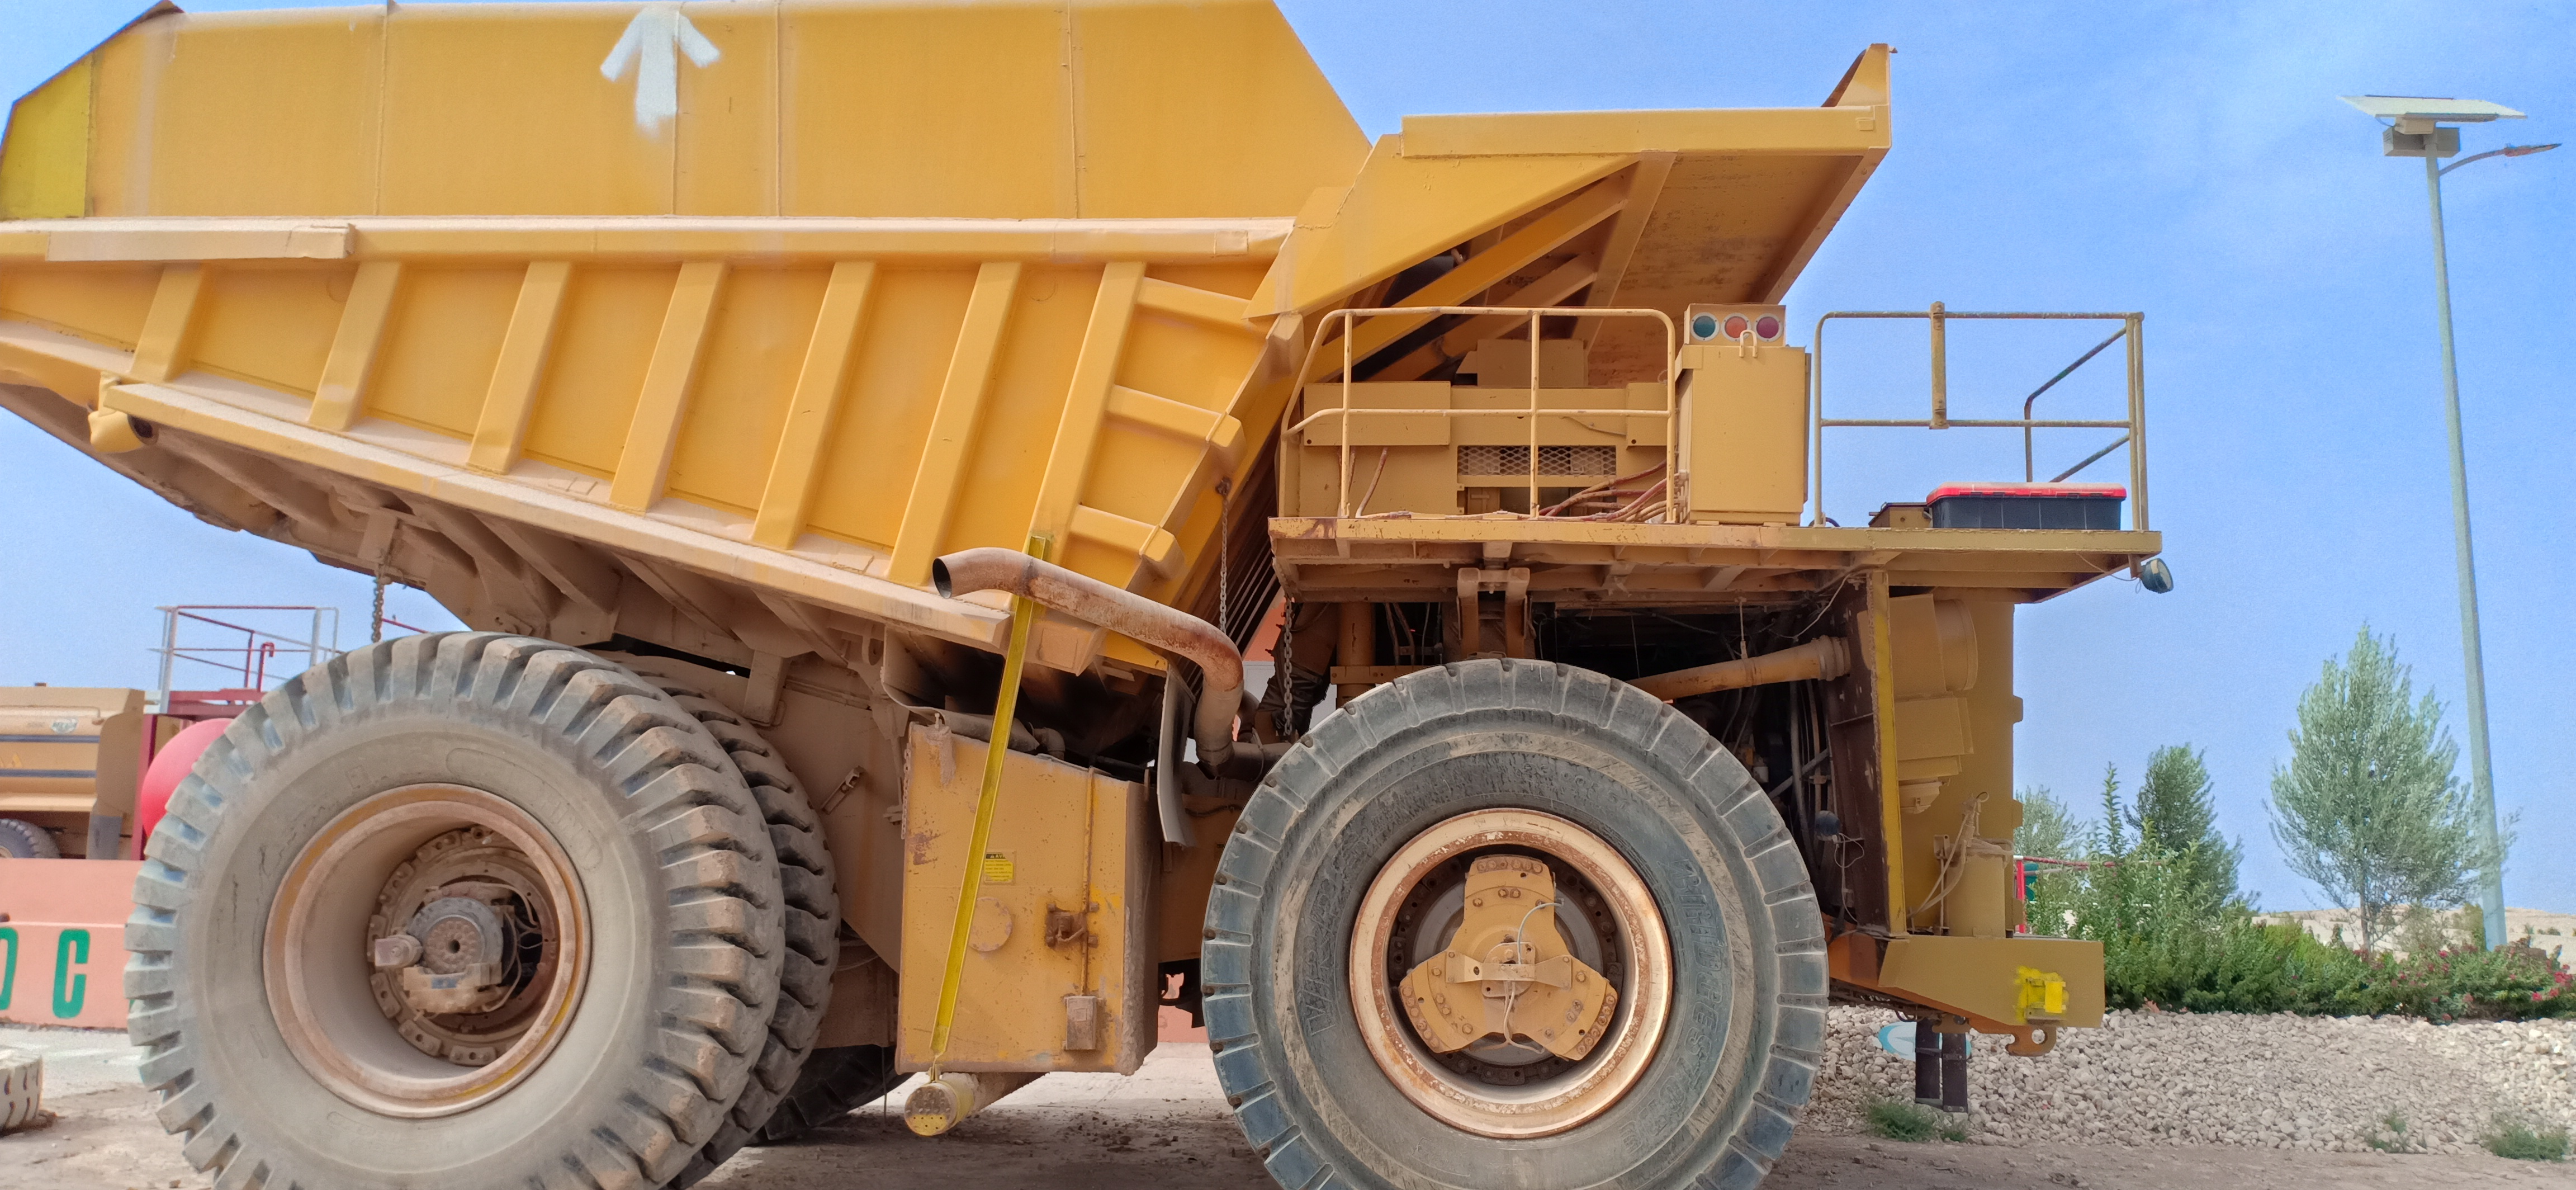camion: (0, 12, 2320, 1187)
